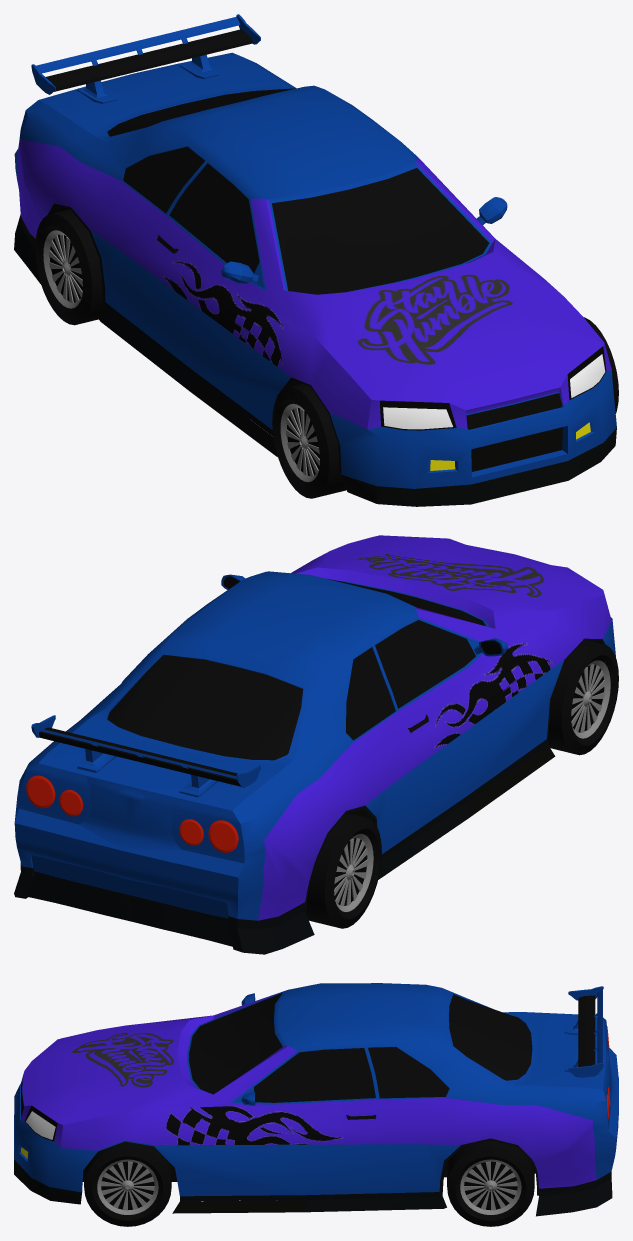
The picture shows the model from 3 angles, top to bottom: view 1: azimuth 30°, elevation 25°; view 2: azimuth 150°, elevation 25°; view 3: azimuth 270°, elevation 25°; orthographic projection. The views are drawn at different scales.
Visible parts, largest first — view 1: Cube, Cube.001, Cylinder.002, Cylinder.001; view 2: Cube, Cube.001, Cylinder.001, Cylinder.002; view 3: Cube, Cube.001, Cylinder.004, Cylinder.003.
Boxes of the visible parts, x1,y1,x2,y2 form: Cube: (14, 14, 616, 506); Cube.001: (14, 139, 611, 456); Cylinder.002: (272, 383, 346, 498); Cylinder.001: (35, 209, 103, 325); Cube: (14, 571, 615, 929); Cube.001: (14, 535, 611, 954); Cylinder.001: (305, 813, 381, 928); Cylinder.002: (548, 640, 618, 755); Cube: (14, 983, 618, 1204); Cube.001: (21, 991, 612, 1216); Cylinder.004: (447, 1140, 534, 1226); Cylinder.003: (84, 1141, 171, 1226).
Bounding box in the file's own units: 168 × 117 × 387.
2 materials, 2 textured.
